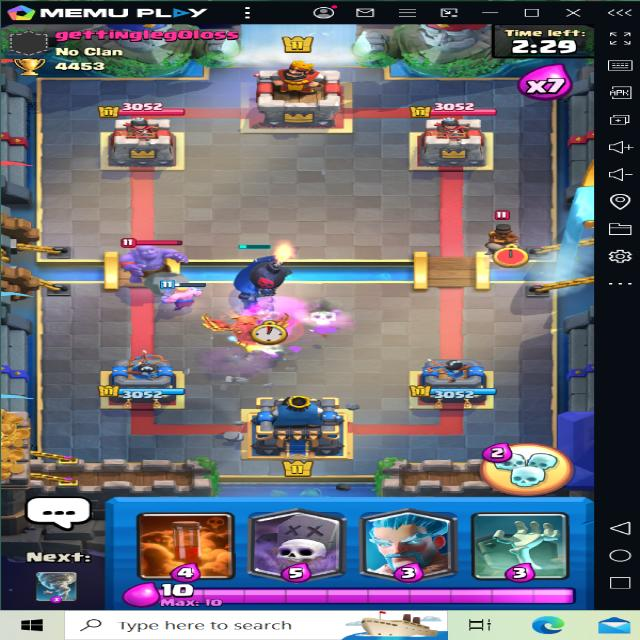Bowler: (116, 238, 185, 293)
Ramrider: (475, 213, 529, 266)
